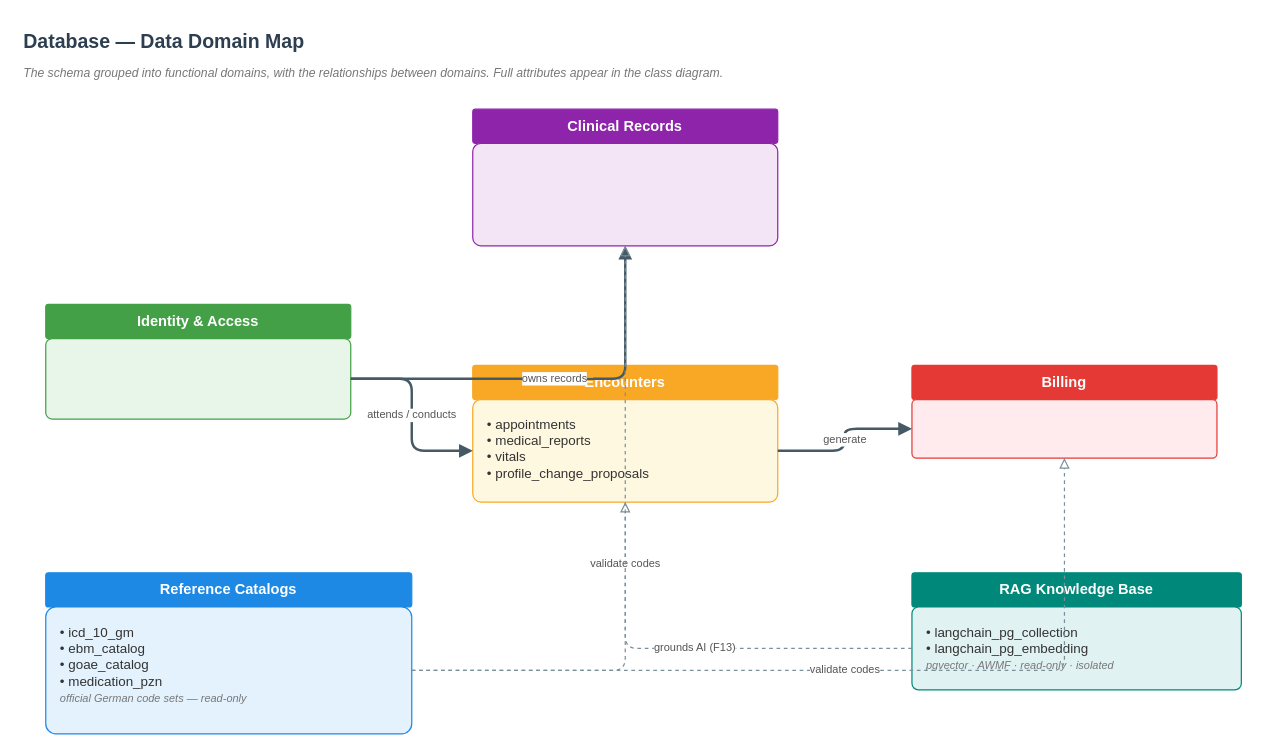
Image size: 1263x755. Some labels were removed from this diagram. The shapes that lost their labels are listed below. From the top down, each one's box as (x1, y1, x2, y2) in pixels, then its label:
(472, 142, 778, 246): • patient_allergies • patient_conditions • medications • patient_documents
(45, 337, 351, 419): • patients • doctors • receptionists
(911, 398, 1217, 458): • invoices • report_billing_codes
